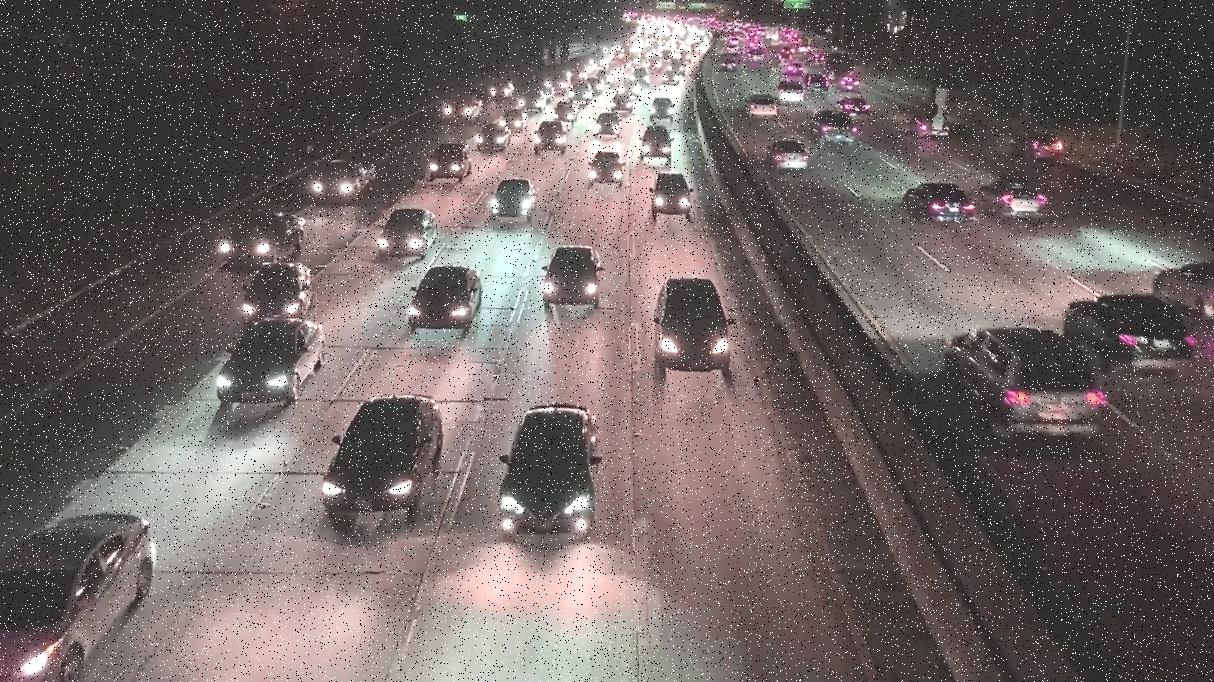car: (0, 507, 166, 682), (940, 315, 1118, 445), (318, 395, 456, 541), (486, 399, 614, 543), (1064, 287, 1192, 385), (209, 322, 329, 405), (650, 270, 736, 378), (234, 259, 325, 322), (410, 264, 486, 332), (1158, 243, 1214, 327), (541, 243, 609, 312), (216, 209, 306, 259), (306, 160, 383, 209), (374, 209, 434, 262), (902, 184, 976, 224), (975, 182, 1048, 219), (489, 178, 540, 225), (426, 140, 471, 191), (650, 174, 693, 219), (807, 113, 860, 148), (636, 121, 678, 161), (589, 152, 626, 190), (768, 142, 813, 172), (535, 121, 570, 157), (476, 118, 516, 149), (773, 80, 809, 109), (745, 93, 777, 119), (836, 96, 872, 119), (651, 96, 677, 124), (593, 115, 624, 138), (553, 100, 580, 124), (719, 59, 738, 73)
